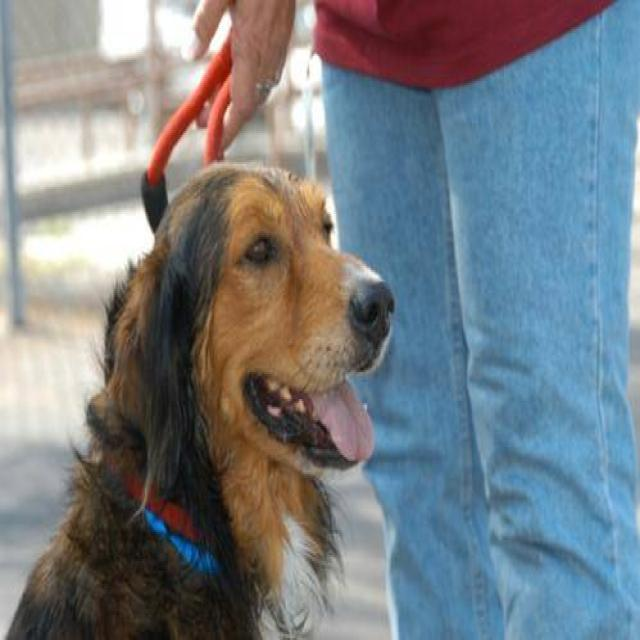Dog: (132, 140, 394, 497)
